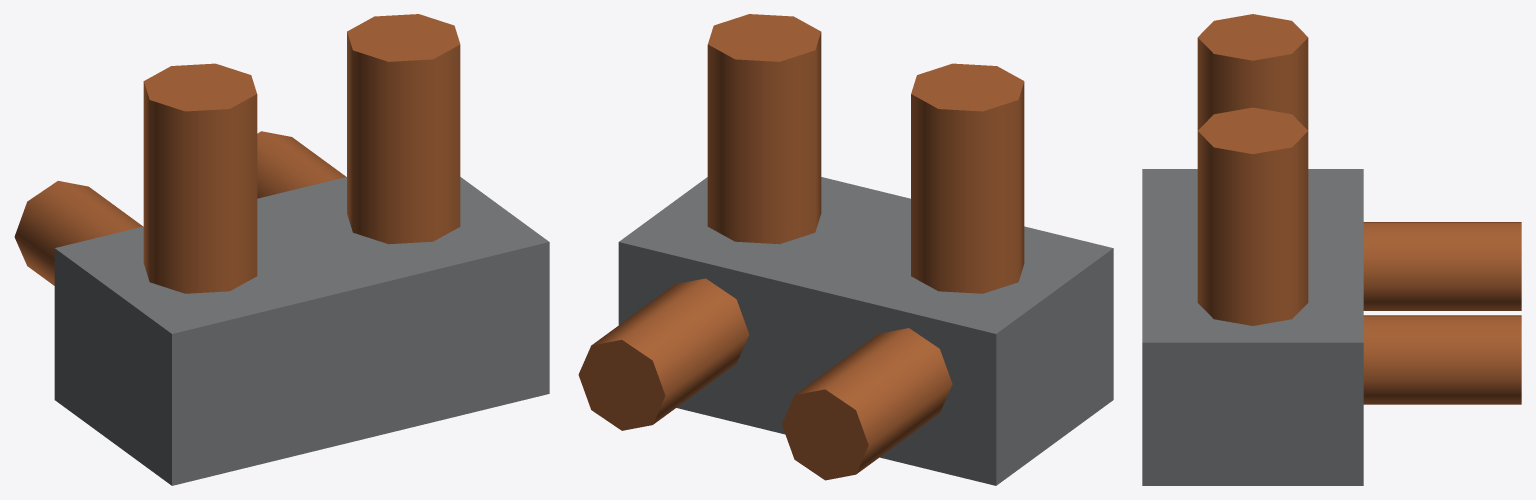
The model's file is sr150_emergency_coolant.obj.
3 renders of one model, left to right at view 1: azimuth 30°, elevation 25°; view 2: azimuth 150°, elevation 25°; view 3: azimuth 270°, elevation 25°, orthographic. The views are drawn at different scales.
Visible parts, largest first — view 1: sr150_emergency_coolant; view 2: sr150_emergency_coolant; view 3: sr150_emergency_coolant.
Part boxes in pixels (x1=…): sr150_emergency_coolant: x1=14, y1=14, x2=549, y2=485; sr150_emergency_coolant: x1=578, y1=14, x2=1113, y2=485; sr150_emergency_coolant: x1=1142, y1=14, x2=1521, y2=485.
Bounding box in the file's own units: 0.26 × 0.22 × 0.24.
